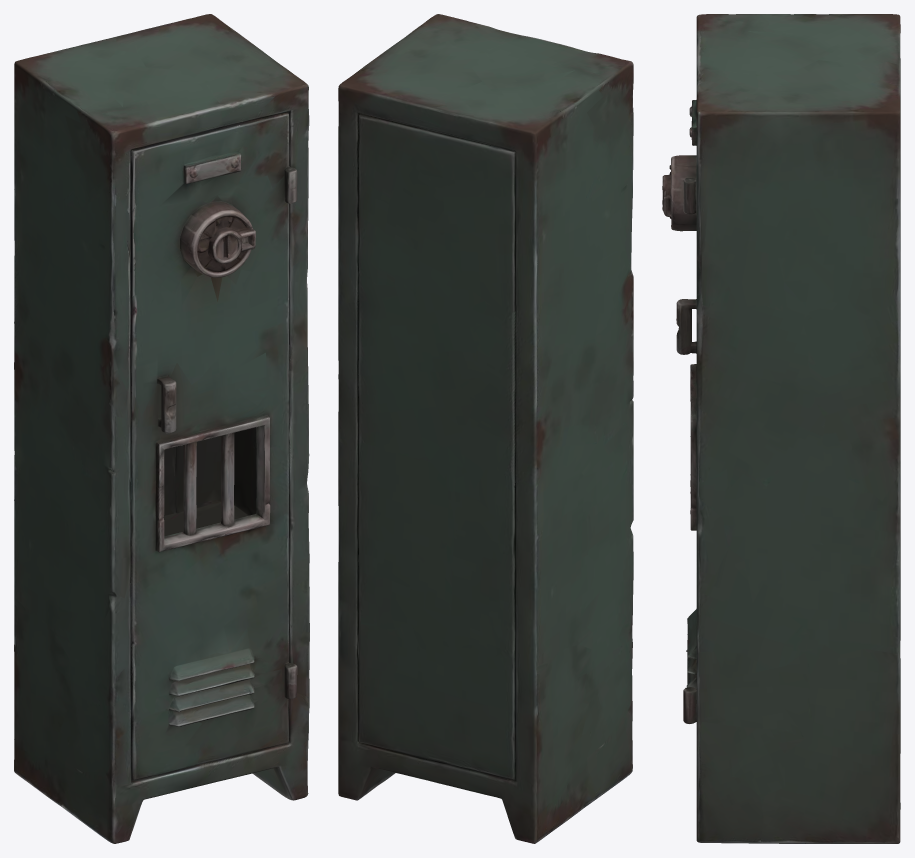
Rendered from prison_locker_row_idle.glb.
The picture shows the model from 3 angles, left to right: view 1: azimuth 30°, elevation 25°; view 2: azimuth 150°, elevation 25°; view 3: azimuth 270°, elevation 25°; orthographic projection. The views are drawn at different scales.
Parts seen in each view (by area): view 1: tripo_node_12023c33-b360-4ca4-97f2-64075ac041da; view 2: tripo_node_12023c33-b360-4ca4-97f2-64075ac041da; view 3: tripo_node_12023c33-b360-4ca4-97f2-64075ac041da.
Part boxes in pixels (x1,y1,x2,y2): tripo_node_12023c33-b360-4ca4-97f2-64075ac041da: [14, 14, 309, 843]; tripo_node_12023c33-b360-4ca4-97f2-64075ac041da: [338, 14, 633, 843]; tripo_node_12023c33-b360-4ca4-97f2-64075ac041da: [662, 14, 900, 843].
Bounding box in the file's own units: 0.5535 × 1.9 × 0.5605.
Materials: 1 (1 with a texture image).
